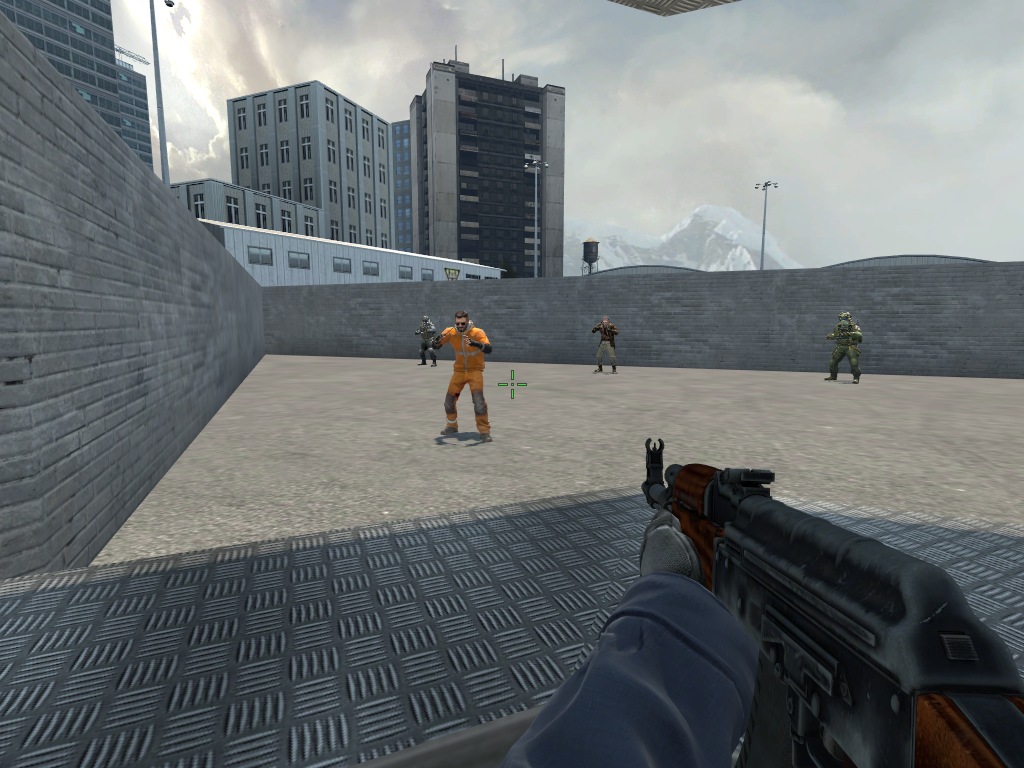ct head: (838, 312, 852, 326), (421, 315, 430, 327)
tr head: (454, 309, 470, 333), (601, 315, 610, 329)
